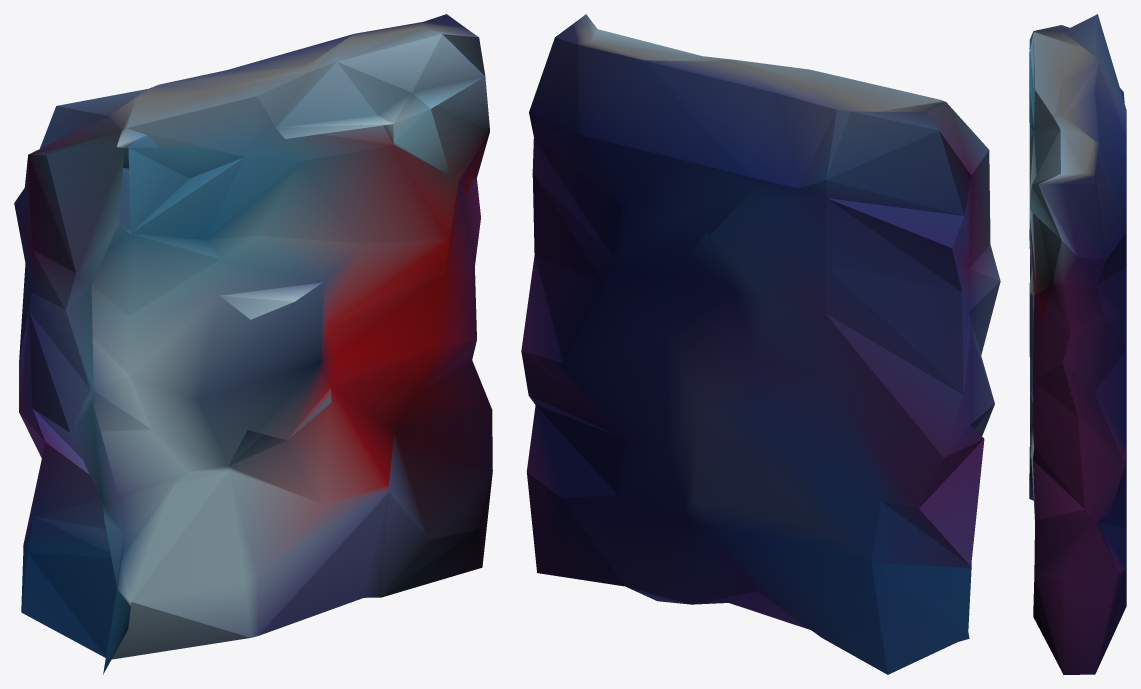
3 renders of one model, left to right at view 1: azimuth 30°, elevation 25°; view 2: azimuth 150°, elevation 25°; view 3: azimuth 270°, elevation 25°, orthographic. The views are drawn at different scales.
Size of the model in its own units: 2.2 by 2.6 by 0.4743.
